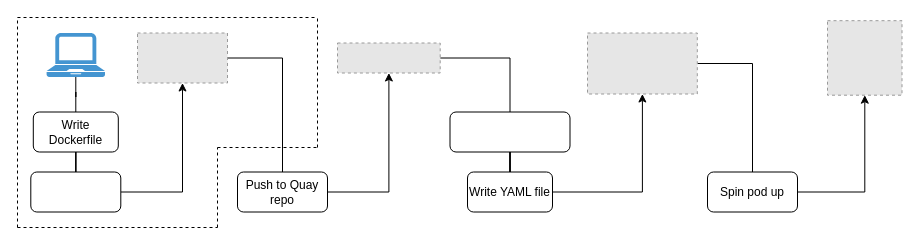
This 920x247 diagram has some shape labels left out. Grey dashed boxes stand in for pictures. The shapes that lost their labels are listed below. From the top down, each one's centre as x and y in pixels, then its label:
the point at 509,131: Deploy image from quay on Openshift
the point at 75,191: Build docker container
